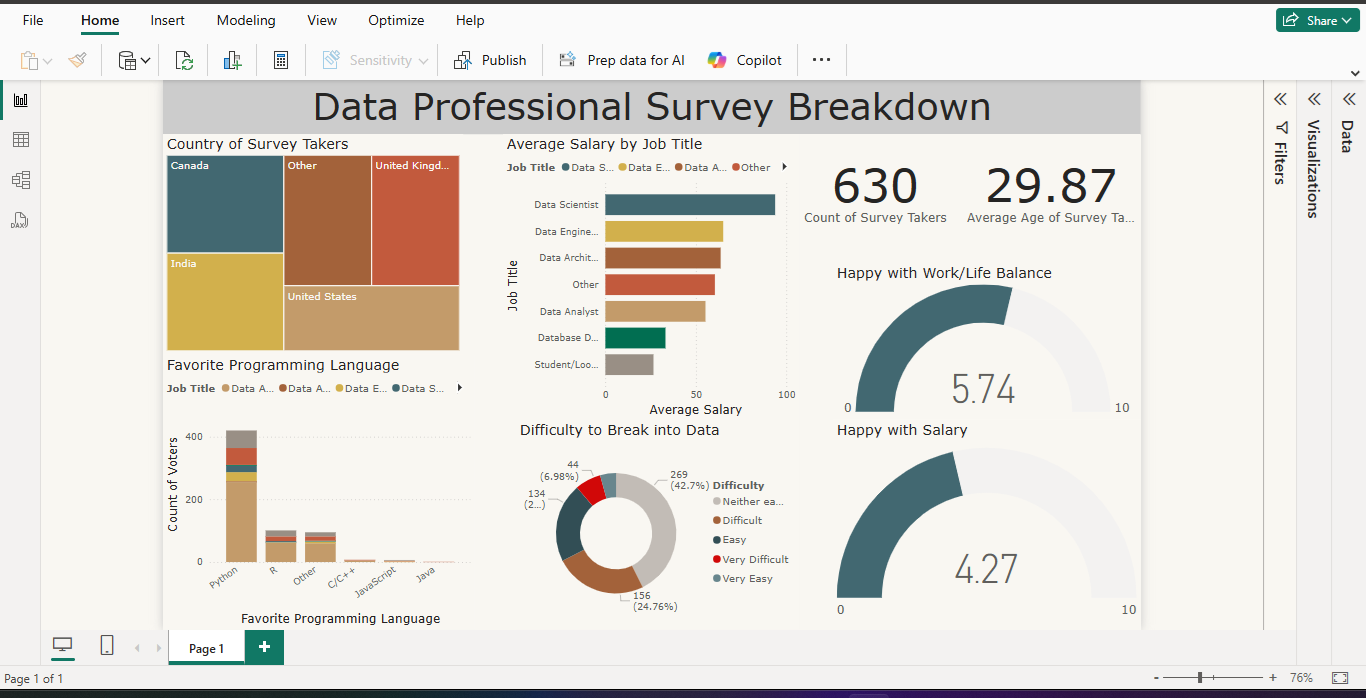

What the dashboard file says about the page in this screenshot:
{"tool":"powerbi","page":{"name":"Page 1","canvas":[1280,720],"ordinal":0},"visuals":[{"type":"textbox","box":[0,0,1280,70.6],"z":0},{"type":"card","fields":{"Values":["CountNonNull(Data Professional Survey.Unique ID)"]},"box":[819.7,70.6,226.8,144.5],"z":1000},{"type":"card","fields":{"Values":["Avg(Data Professional Survey.Q10 - Current Age)"]},"box":[1046.5,70.6,233.5,144.5],"z":2000},{"type":"barChart","title":"Average Salary by Job Title","fields":{"Category":["Data Professional Survey.Q1 - Which Title Best Fits your Current Role?.1"],"Y":["Avg(Data Professional Survey.Average Salary)"],"Series":["Data Professional Survey.Q1 - Which Title Best Fits your Current Role?.1"]},"box":[445.1,70.6,388,374.6],"z":3000},{"type":"columnChart","title":"Favorite Programming Language","fields":{"Category":["Data Professional Survey.Q5 - Favorite Programming Language.1"],"Y":["CountNonNull(Data Professional Survey.Unique ID)"],"Series":["Data Professional Survey.Q1 - Which Title Best Fits your Current Role?.1"]},"box":[0,359.5,408.2,359.5],"z":4000},{"type":"treemap","title":"Country of Survey Takers","fields":{"Group":["Data Professional Survey.Q11 - Which Country do you live in?.1"],"Values":["Count(Data Professional Survey.Q11 - Which Country do you live in?.1)"]},"box":[0,70.6,393.1,288.9],"z":5000},{"type":"gauge","title":"Happy with Work/Life Balance","fields":{"Y":["Avg(Data Professional Survey.Q6 - How Happy are you in your Current Position with the following? (Work/Life Balance))"],"MinValue":["Min(Data Professional Survey.Q6 - How Happy are you in your Current Position with the following? (Work/Life Balance))1"],"MaxValue":["Max(Data Professional Survey.Q6 - How Happy are you in your Current Position with the following? (Work/Life Balance))2"]},"box":[876.9,240.2,403.1,204.9],"z":6000},{"type":"gauge","title":"Happy with Salary","fields":{"Y":["Avg(Data Professional Survey.Q6 - How Happy are you in your Current Position with the following? (Salary))"],"MinValue":["Min(Data Professional Survey.Q6 - How Happy are you in your Current Position with the following? (Salary))"],"MaxValue":["Max(Data Professional Survey.Q6 - How Happy are you in your Current Position with the following? (Salary))"]},"box":[876.9,445.1,403.1,275.5],"z":7000},{"type":"donutChart","title":"Difficulty to Break into Data","fields":{"Category":["Data Professional Survey.Q7 - How difficult was it for you to break into Data?"],"Y":["CountNonNull(Data Professional Survey.Q7 - How difficult was it for you to break into Data?)"]},"box":[461.9,445.1,371.2,273.8],"z":8000}]}

Visuals, with their boxes in screenshot pixels (x1, y1, x2, y2):
textbox: (left=164, top=0, right=1365, bottom=67)
card - CountNonNull(Data Professional Survey.Unique ID): (left=946, top=67, right=1163, bottom=205)
card - Avg(Data Professional Survey.Q10 - Current Age): (left=1163, top=67, right=1365, bottom=205)
"Average Salary by Job Title" barChart: (left=589, top=67, right=959, bottom=425)
"Favorite Programming Language" columnChart: (left=164, top=343, right=553, bottom=687)
"Country of Survey Takers" treemap: (left=164, top=67, right=539, bottom=343)
"Happy with Work/Life Balance" gauge: (left=1001, top=229, right=1365, bottom=425)
"Happy with Salary" gauge: (left=1001, top=425, right=1365, bottom=688)
"Difficulty to Break into Data" donutChart: (left=605, top=425, right=959, bottom=687)
